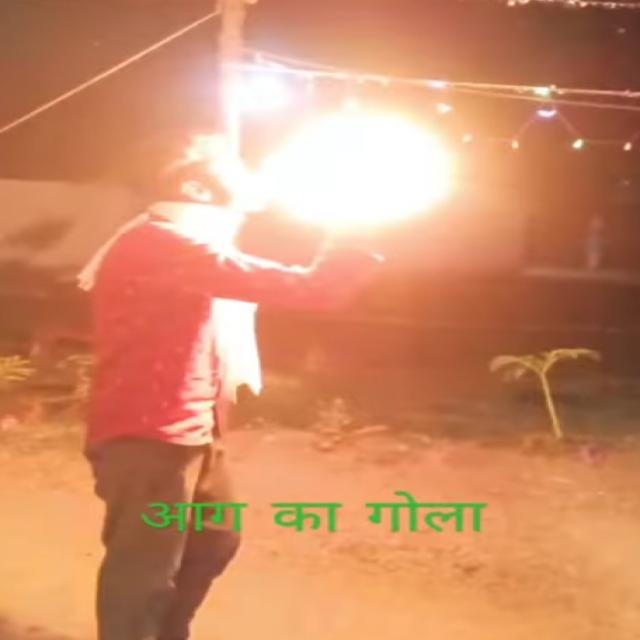fire: (261, 107, 460, 228)
